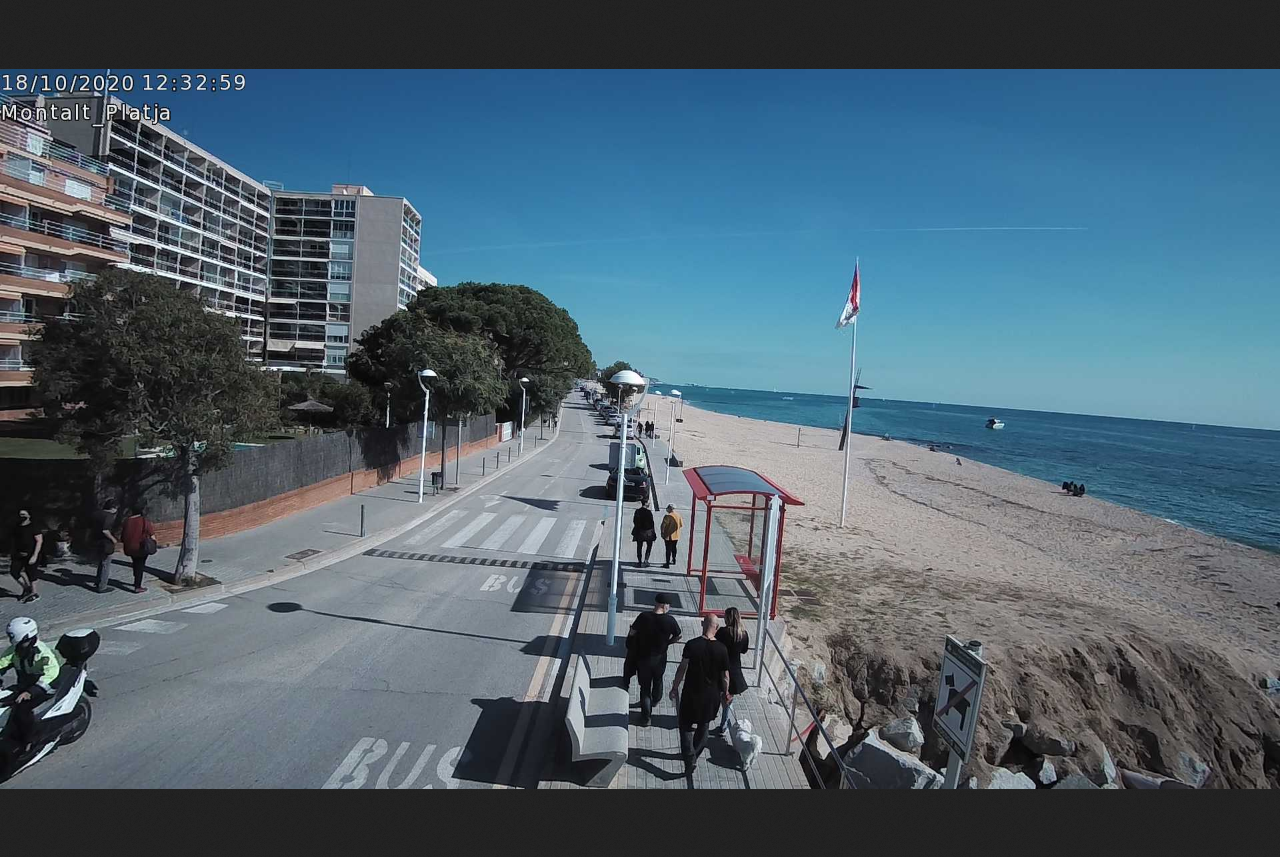no: (837, 262, 865, 327)
